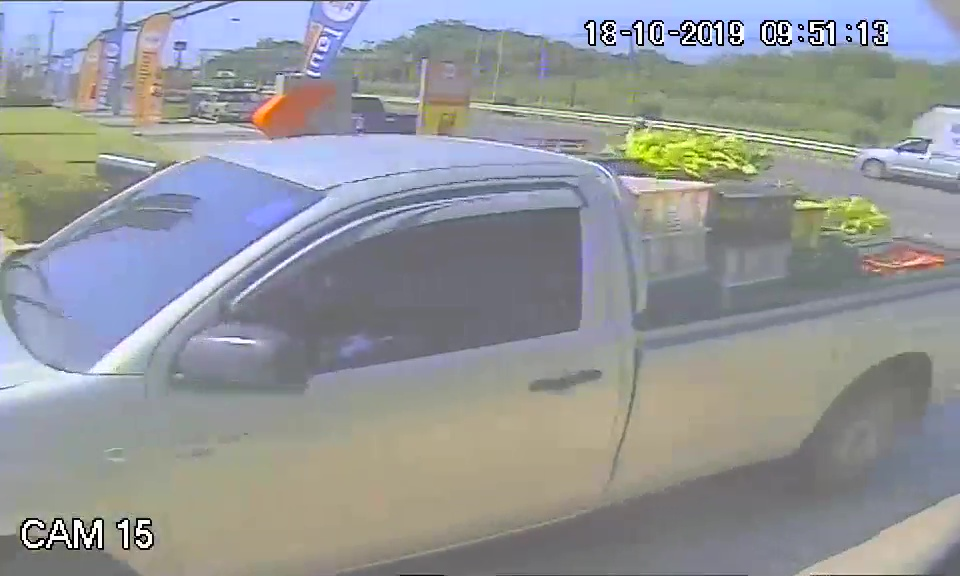pickup: (4, 130, 952, 509)
